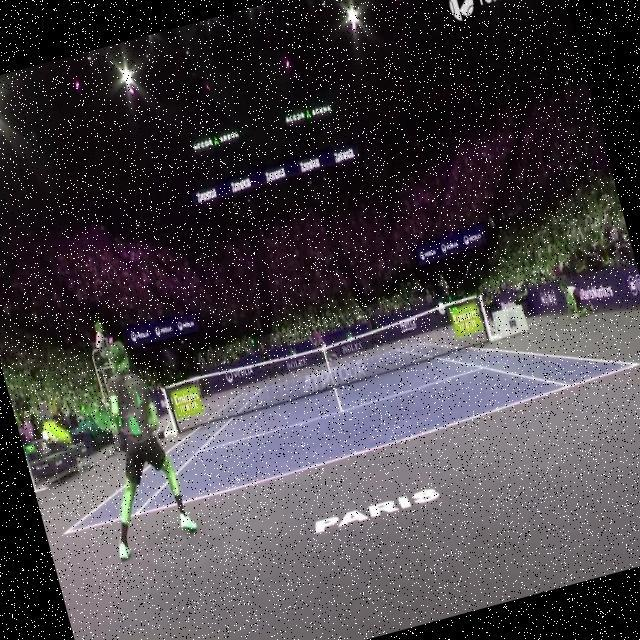court: (37, 283, 640, 537)
net: (159, 292, 496, 434)
player: (63, 330, 204, 565)
